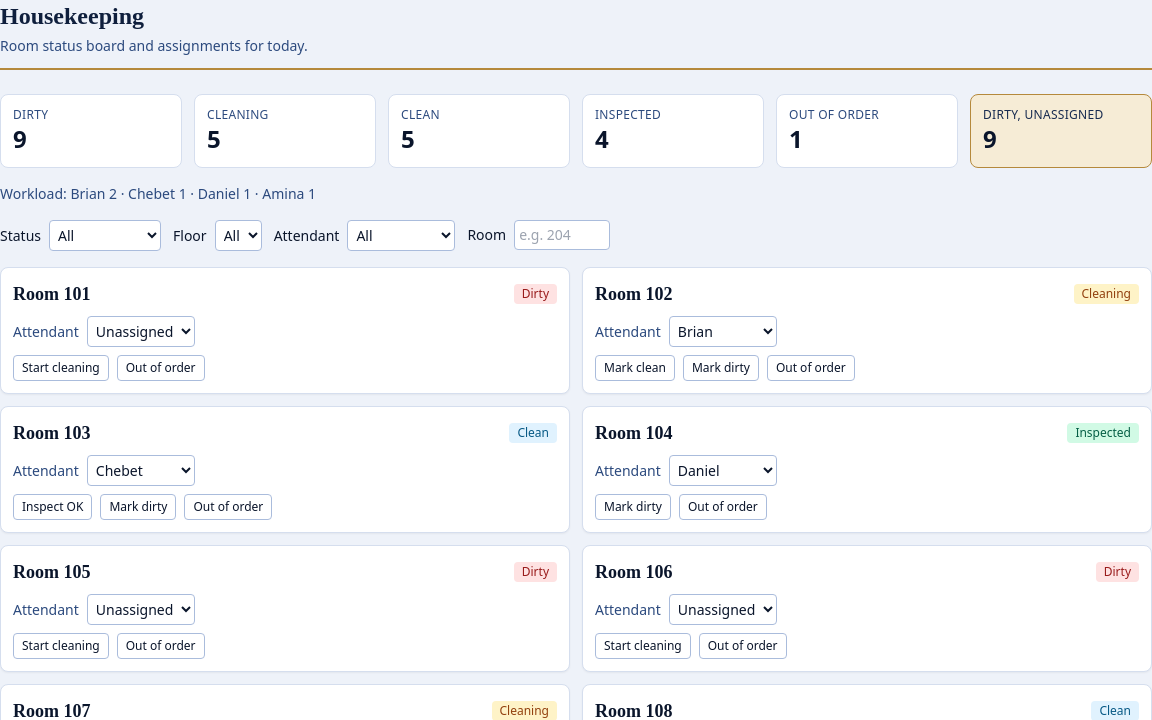
Test: Housekeeping page › filters by status and shows an empty state
Select "Out of order" in the dropdown labelled "Status". click: (105, 236)
box: 49,220 -> 161,251
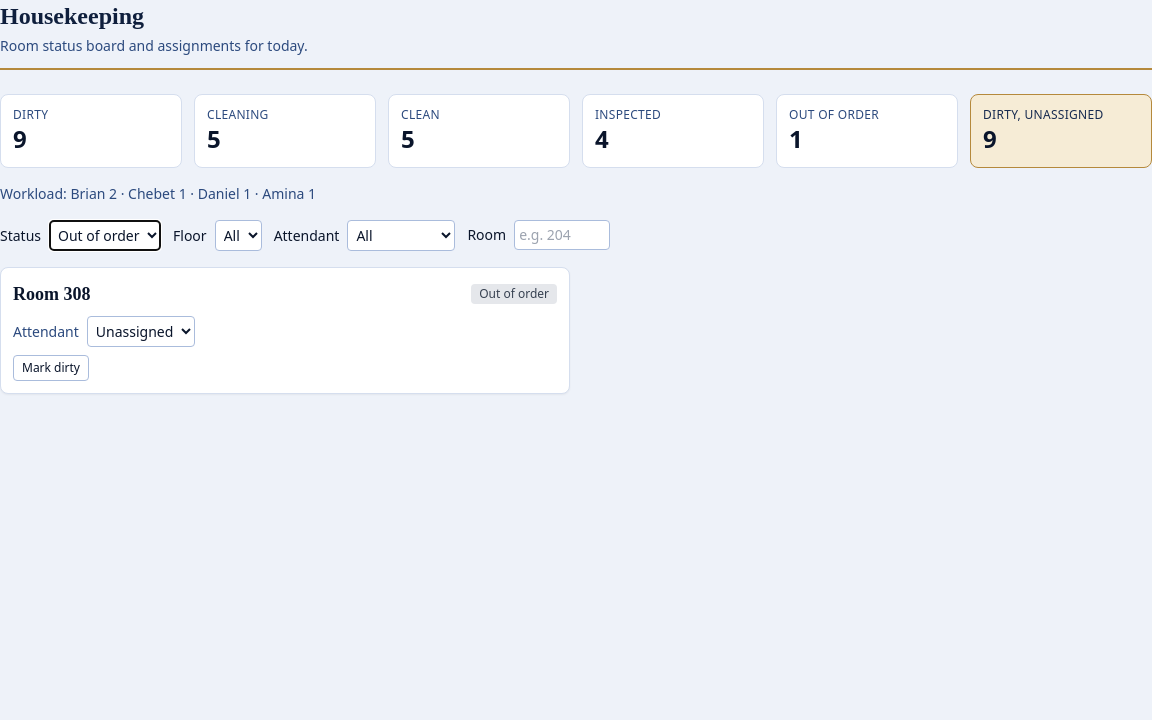
Expected: the number of list items is 1, 0,267 -> 570,394
Type "999" into the field labelled "Room". click: (562, 235)
box: 514,220 -> 610,250
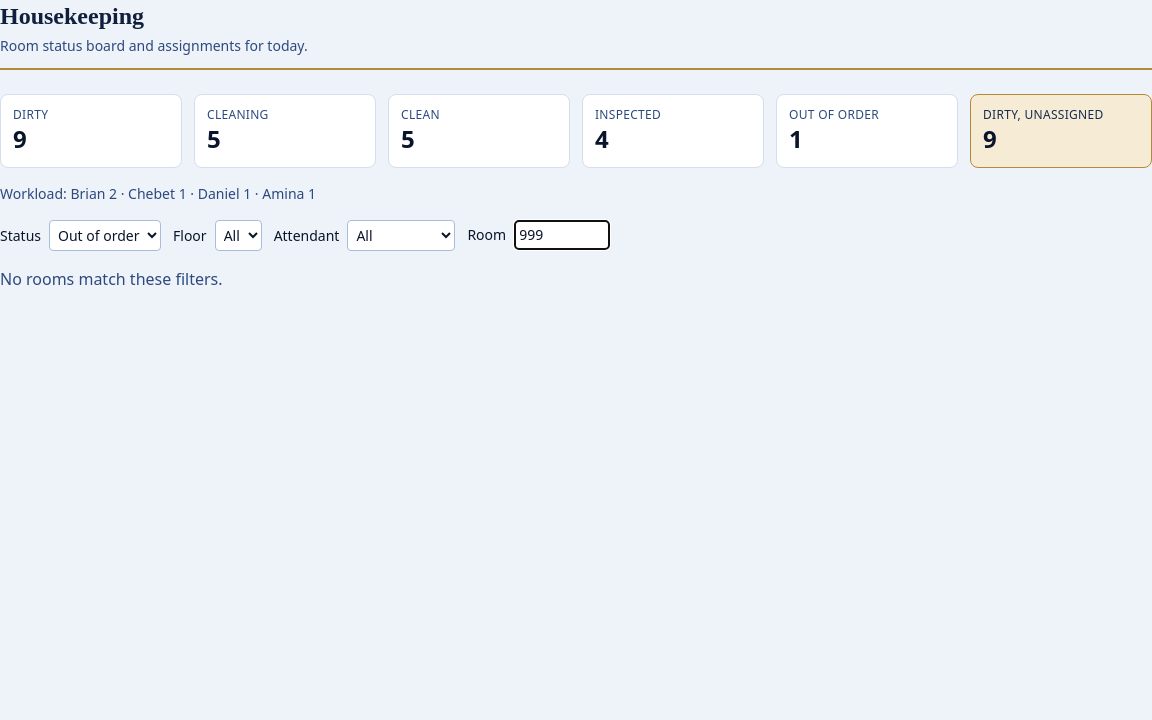
Expected: the text "No rooms match these filters." is shown, 0,268 -> 222,290
